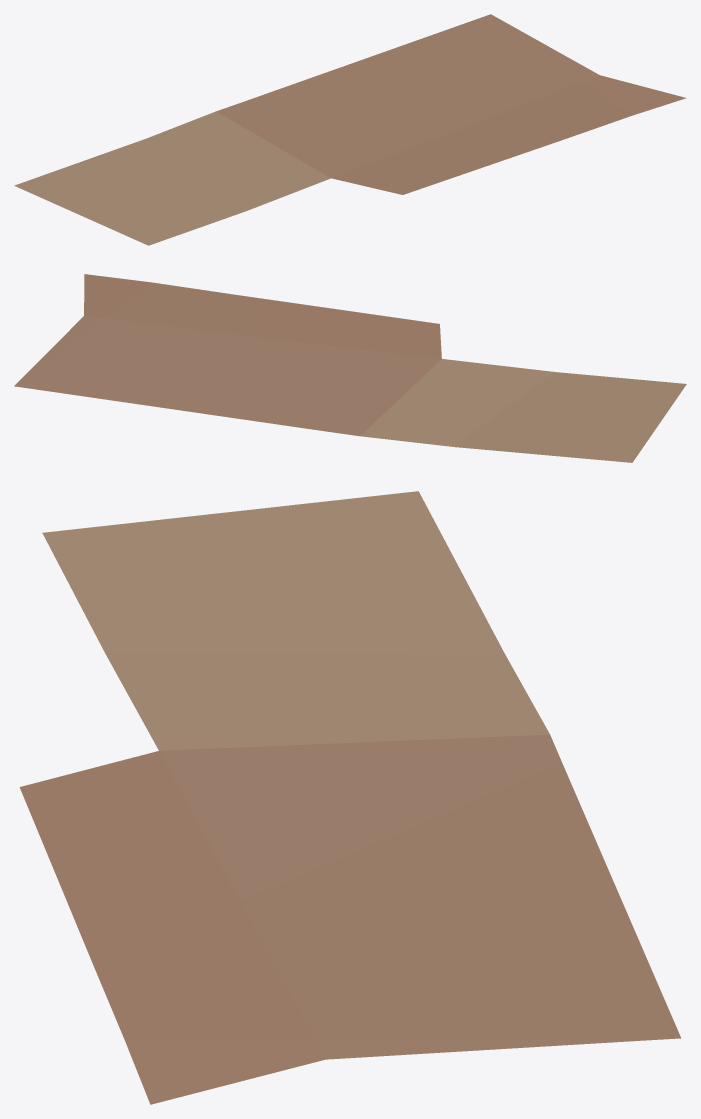
The model's file is farm_-37_-36_soil.glb.
3 views of the same model, one above another, from view 1: azimuth 30°, elevation 25°; view 2: azimuth 150°, elevation 25°; view 3: azimuth 270°, elevation 25° (orthographic). The views are drawn at different scales.
Visible parts, largest first — view 1: geometry_0; view 2: geometry_0; view 3: geometry_0.
Part boxes in pixels (x1=…): geometry_0: x1=14, y1=14, x2=686, y2=245; geometry_0: x1=14, y1=274, x2=686, y2=462; geometry_0: x1=19, y1=491, x2=680, y2=1104.
Bounding box in the file's own units: 124 × 2.18 × 58.7.
